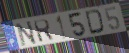1: (55, 14, 68, 41)
5: (67, 10, 87, 38), (104, 5, 121, 31)
D: (85, 8, 106, 36)
N: (15, 20, 38, 47)
R: (32, 18, 55, 44)
